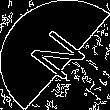N_SE: (20, 23, 90, 87)
